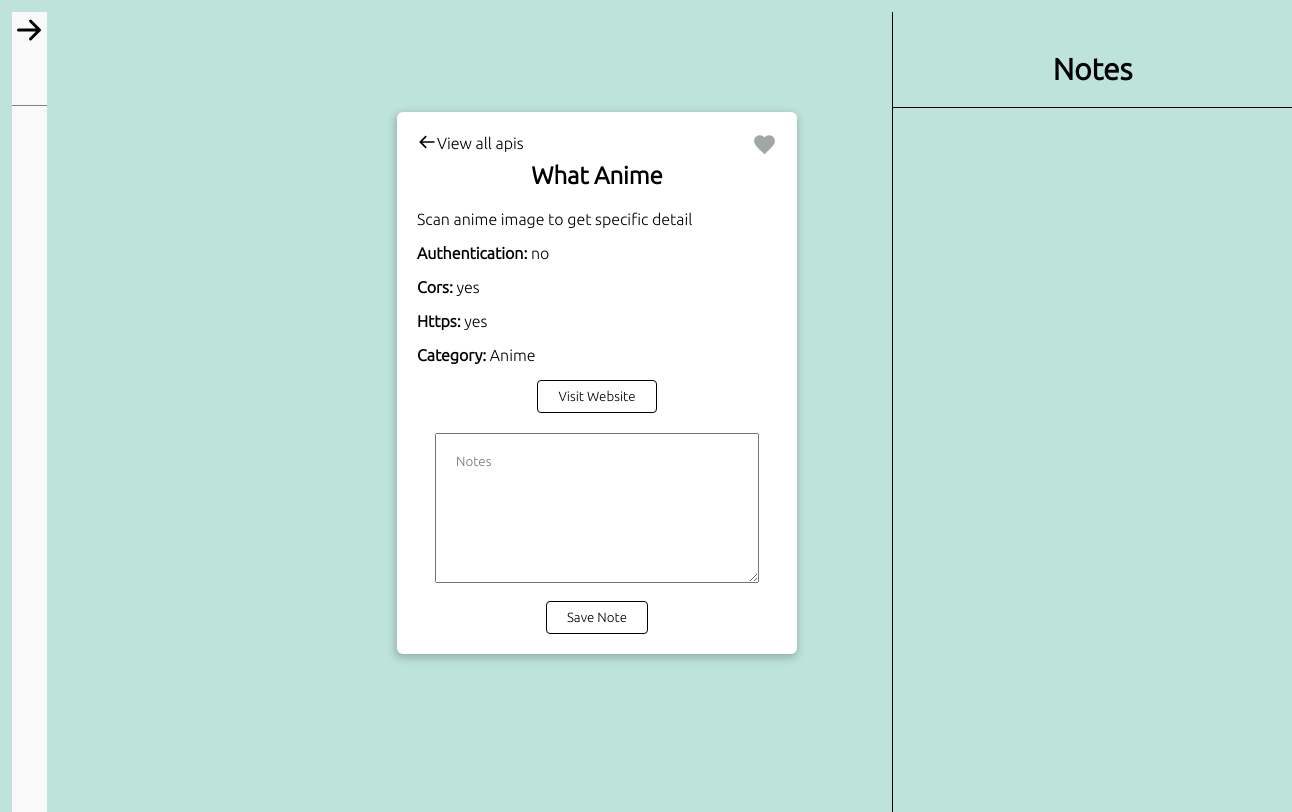
Test case: Selected API page › Should be able to delete a note
Type "ops ths note ahs to may typos" into the text box with class "featured-card__notes". click: (597, 508)
box: x1=435 y1=433 x2=759 y2=583
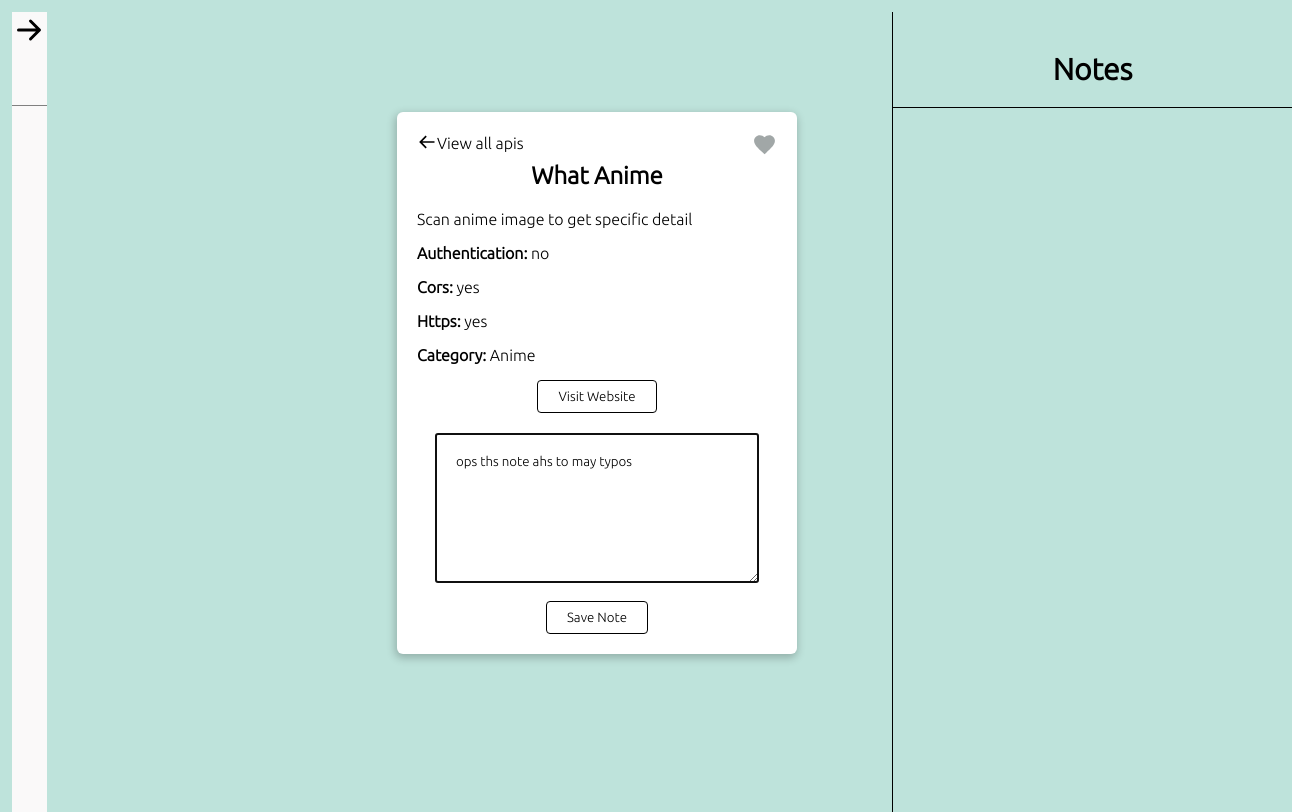
Click the button with class "save-note__btn". click: (597, 618)
box: x1=546 y1=601 x2=648 y2=634
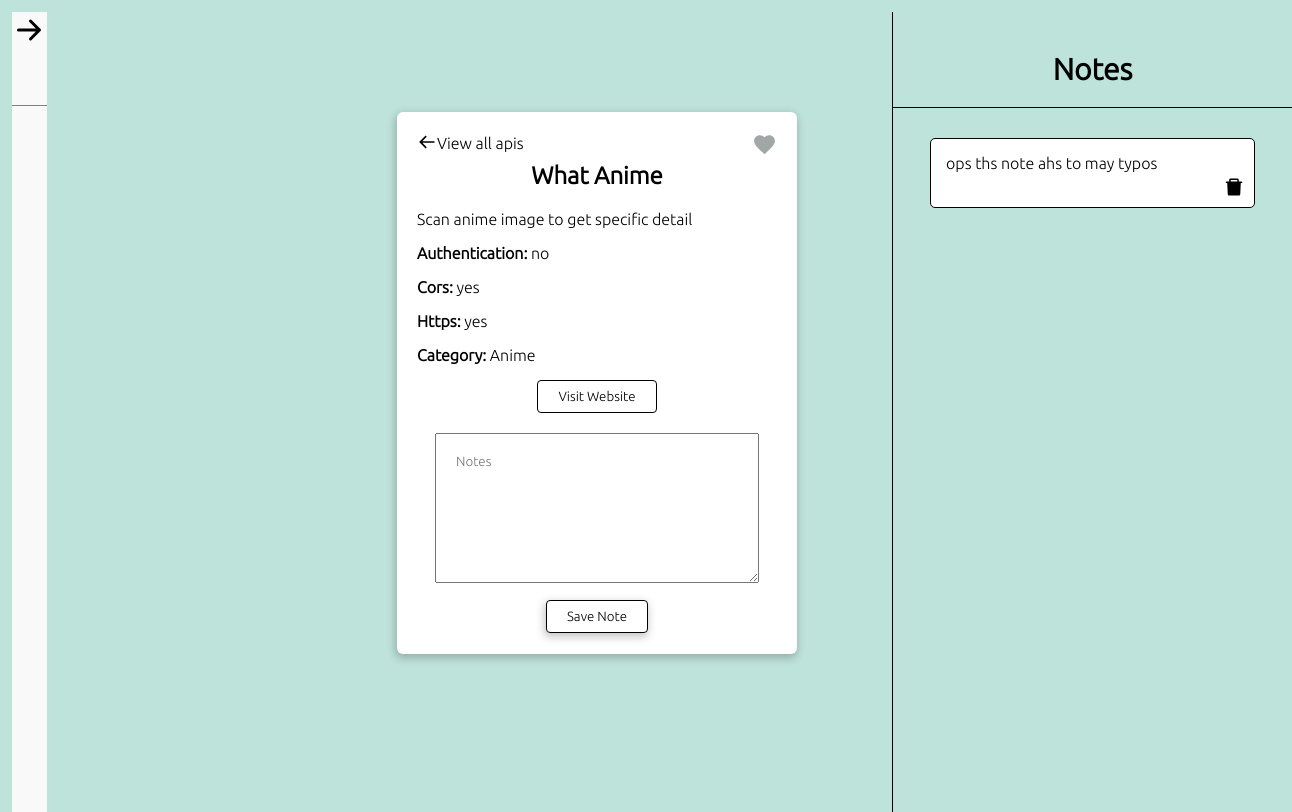
Click the button with class "delete-btn". click: (1234, 187)
box: x1=1219 y1=172 x2=1249 y2=202
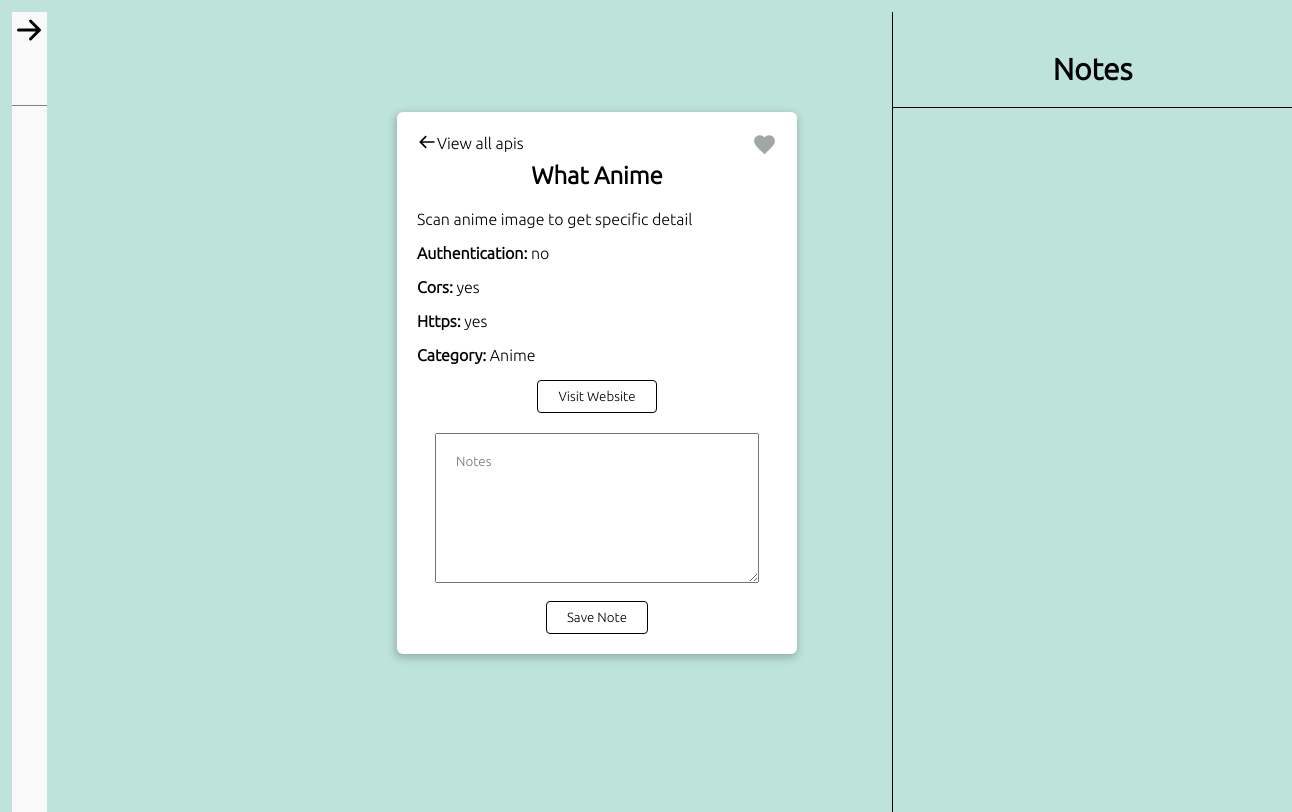
Check: the text "ops ths note ahs to may typos" is gone
